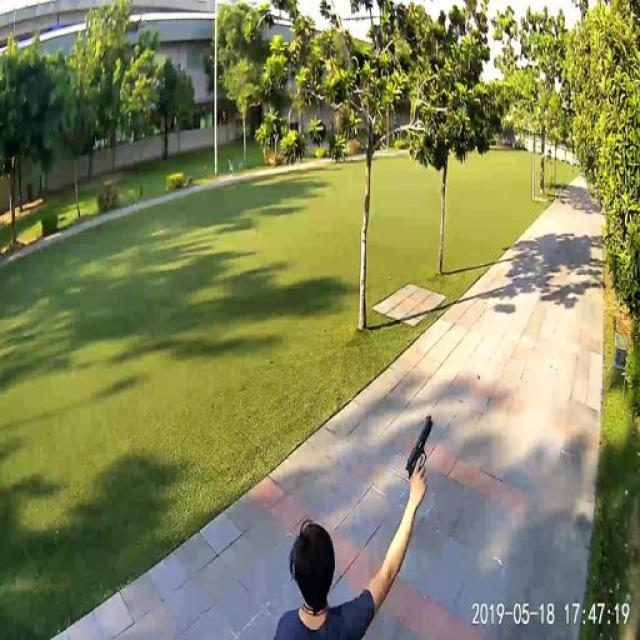weapon: (404, 416, 434, 503)
